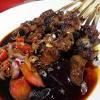sate: (1, 6, 100, 98)
